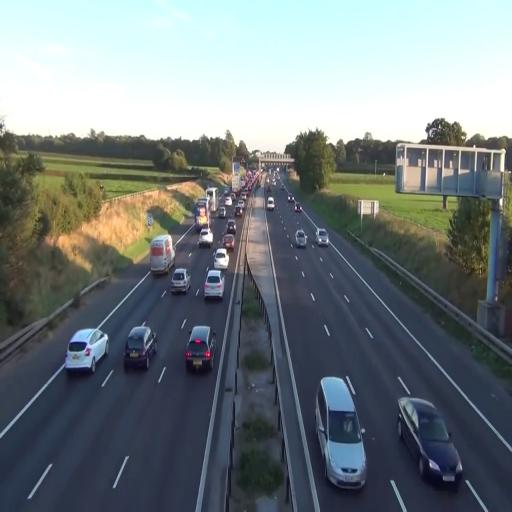vehicle: (397, 396, 464, 491), (315, 375, 367, 492), (315, 375, 367, 491), (66, 326, 108, 374), (123, 325, 157, 370), (185, 324, 213, 374), (149, 234, 174, 277), (204, 268, 224, 301), (194, 200, 210, 230), (172, 267, 190, 293), (220, 226, 236, 252), (213, 248, 229, 271), (198, 229, 213, 247), (295, 228, 307, 247), (316, 228, 329, 245), (266, 196, 275, 209)
